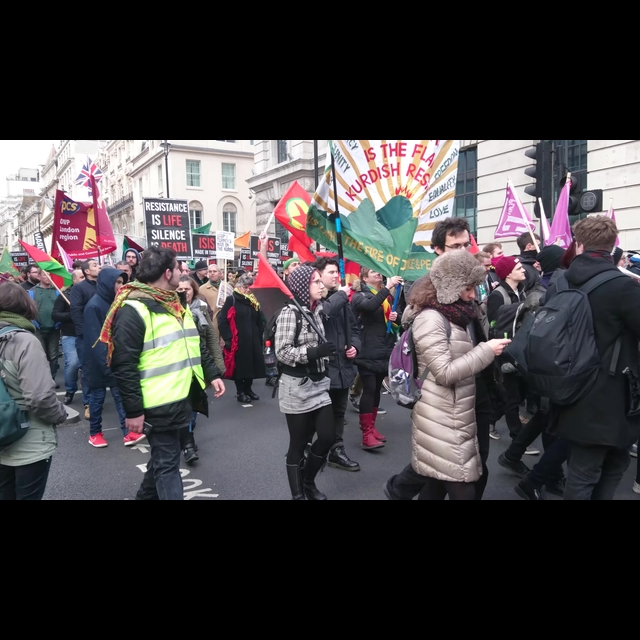PKK: (283, 196, 321, 233)
